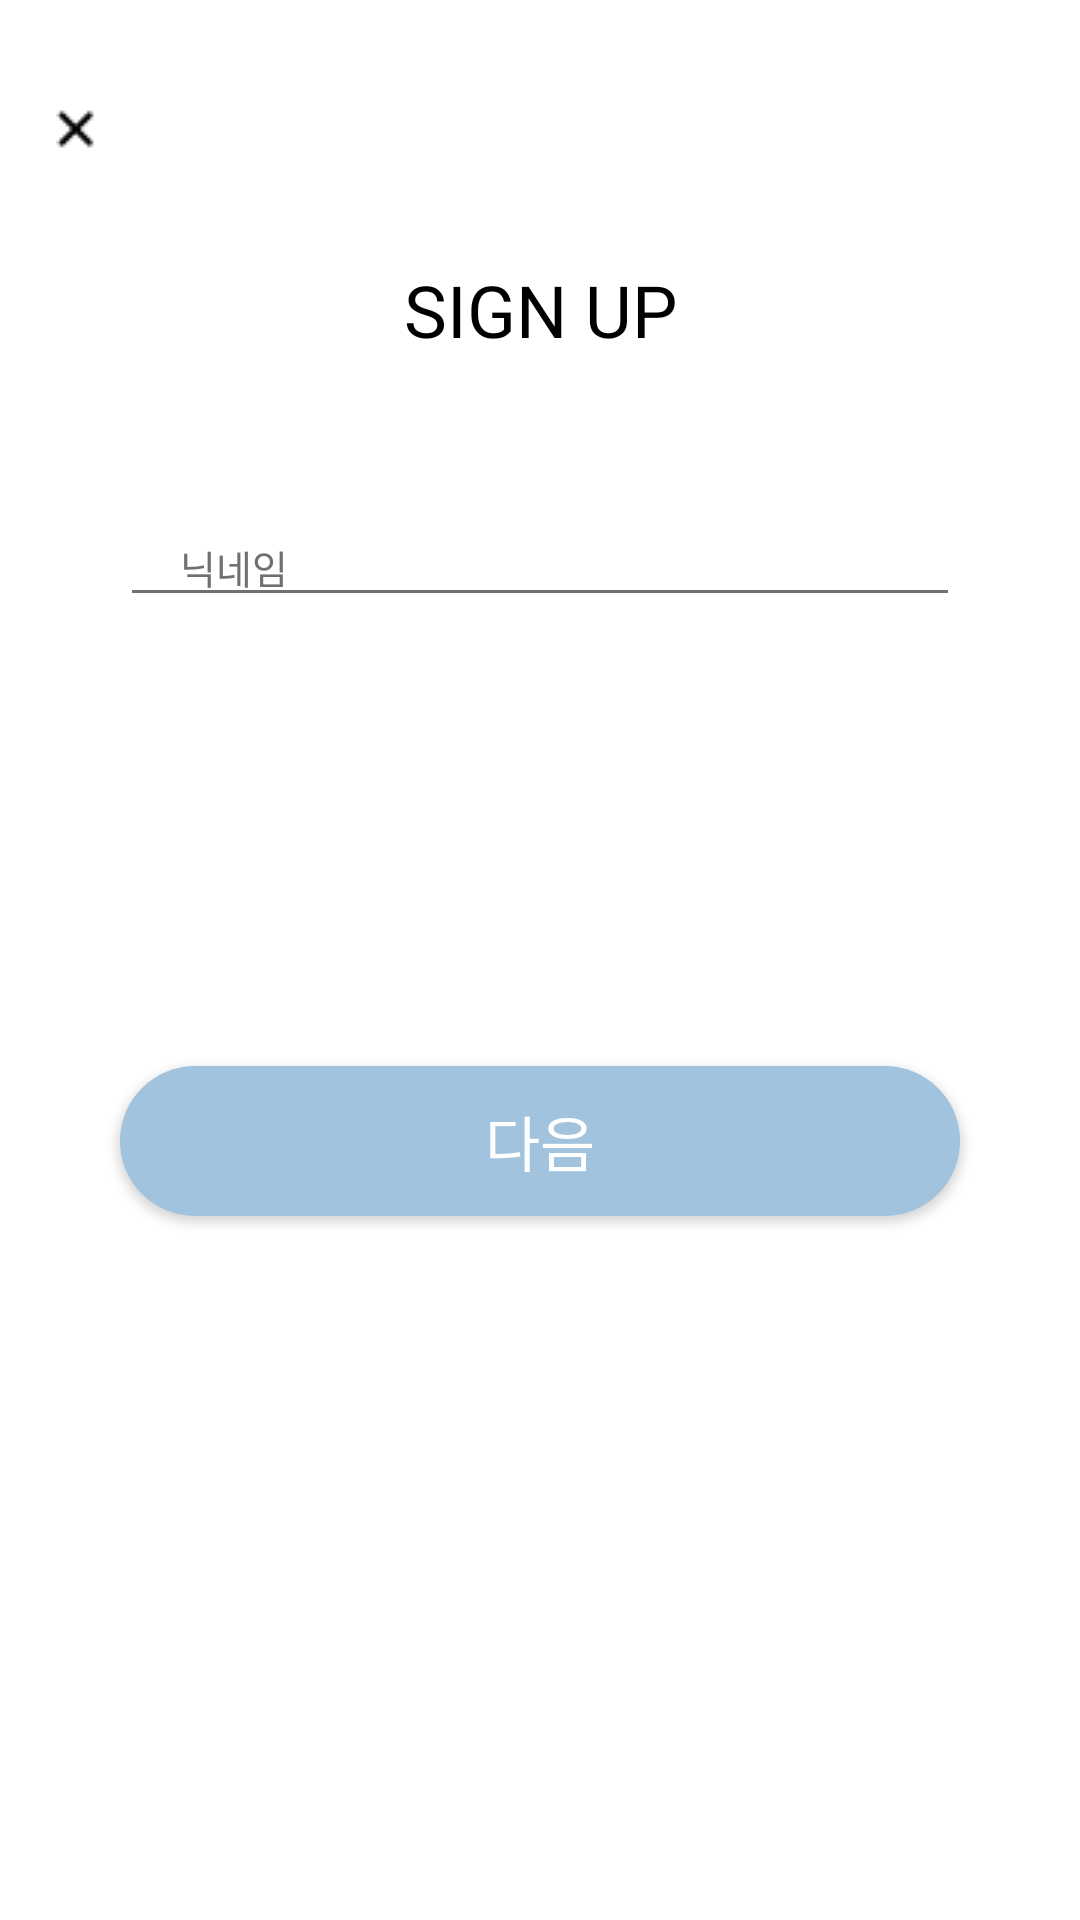

Screen size 1080px×1920px. Icon name, then its box in pixels as [left=x1, top=y1, right=x2, bottom=y2]:
cancel: [left=56, top=110, right=94, bottom=148]
